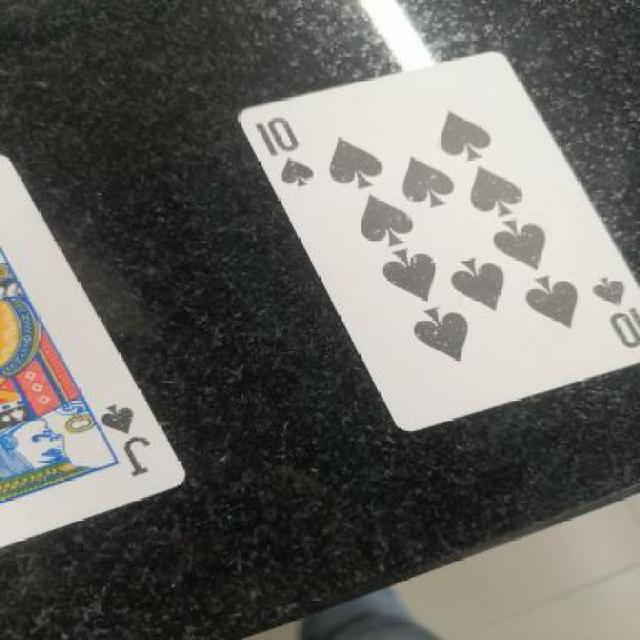10S: (243, 107, 314, 188), (590, 270, 640, 358)
JS: (84, 403, 193, 489)
